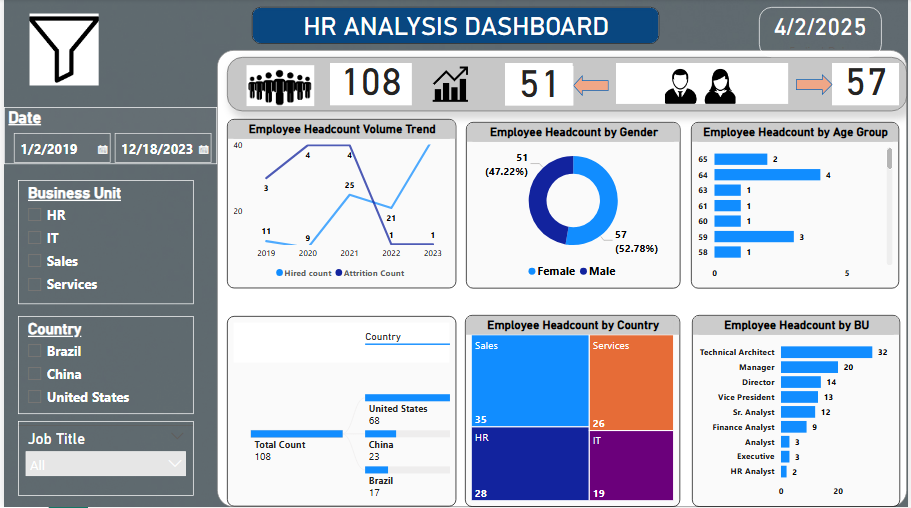

This screenshot's page, from the dashboard's own definition file:
{"tool":"powerbi","page":{"name":"Page 1","canvas":[1280,720],"ordinal":0},"visuals":[{"type":"textbox","box":[413.9,95,866,106.3],"z":0},{"type":"textbox","box":[301.9,72.3,978,647.7],"z":1000},{"type":"textbox","box":[316.1,82.2,963.8,76.5],"z":2000},{"type":"image","box":[338.7,63.8,106.3,117.6],"z":3000},{"type":"image","box":[555.6,90.7,154.5,59.5],"z":4000},{"type":"lineChart","title":"Employee Headcount  Volume Trend","fields":{"Category":["Employee Data.Hire Date.Variation.Date Hierarchy.Year"],"Y":["CountNonNull(Employee Data.EEID)"],"Y2":["CountNonNull(Employee Data.End Date)"]},"box":[316.4,169.9,324.7,239.7],"z":5000},{"type":"donutChart","title":" Employee Headcount by Gender","fields":{"Category":["Employee Data.Gender"],"Y":["CountNonNull(Employee Data.EEID)"]},"box":[654.8,174,304.1,235.6],"z":6000},{"type":"clusteredBarChart","title":" Employee Headcount by Age Group","fields":{"Category":["Employee Data.Age"],"Y":["CountNonNull(Employee Data.EEID)"]},"box":[974,174,294.5,235.6],"z":7000},{"type":"decompositionTreeVisual","title":"Employee Headcount  Volume Trend","fields":{"Analyze":["CountNonNull(Employee Data.Country)"],"ExplainBy":["Employee Data.Country"]},"box":[316.1,449.1,324.6,270.3],"z":8000},{"type":"treemap","title":" Employee Headcount by  Country","fields":{"Group":["Employee Data.Business Unit"],"Values":["CountNonNull(Employee Data.EEID)"]},"box":[653.4,447.9,304.7,272.1],"z":9000},{"type":"barChart","title":" Employee Headcount by BU","fields":{"Category":["Employee Data.Job Title"],"Y":["CountNonNull(Employee Data.EEID)"]},"box":[975.1,447.9,294.8,272.1],"z":10000},{"type":"card","fields":{"Values":["CountNonNull(Employee Data.EEID)"]},"box":[462,90.7,116.2,59.5],"z":11000},{"type":"image","box":[914.2,92.1,113.4,59.5],"z":12000},{"type":"card","fields":{"Values":["Employee Data.Total_Male_Count"]},"box":[710.1,90.7,96.4,59.5],"z":13000},{"type":"card","fields":{"Values":["Employee Data.Total_Female_Count"]},"box":[1173.5,90.7,95,59.5],"z":14000},{"type":"shape","box":[806.8,108.2,50.7,30.1],"z":15000},{"type":"shape","box":[1121.9,106.8,52.1,30.1],"z":16000},{"type":"textbox","box":[867.4,90.7,243.8,58.1],"z":17000},{"type":"image","box":[902.8,93.5,167.2,59.5],"z":18000},{"type":"textbox","title":"HR ANALYSIS DASHBOARD","box":[351.5,11.3,576.9,52.4],"z":19000},{"type":"slicer","fields":{"Values":["Employee Data.Business Unit"]},"box":[20,256,248.8,175.9],"z":20000},{"type":"card","fields":{"Values":["Employee Data.Total_Male_Count"]},"box":[709.6,94.5,97.3,56.2],"z":21000},{"type":"slicer","fields":{"Values":["Employee Data.Country"]},"box":[20,449.1,248.8,138.7],"z":22000},{"type":"slicer","fields":{"Values":["Employee Data.Job Title"]},"box":[20,597.8,248.8,105.8],"z":23000},{"type":"slicer","title":"Date","fields":{"Values":["Employee Data.Hire Date"]},"box":[0,153.1,301.9,80.8],"z":24000},{"type":"card","fields":{"Values":["Min(Query1.Date)"]},"box":[1070.1,11.3,174.3,70.9],"z":25000},{"type":"image","box":[31.2,15.6,107.7,112],"z":26000}]}

Visuals, with their boxes in screenshot pixels (x1, y1, x2, y2), scaled from the page's 1280x720 canvas onto the 911x508 screenshot:
textbox: bbox(295, 67, 910, 142)
textbox: bbox(215, 51, 910, 507)
textbox: bbox(225, 58, 910, 112)
image: bbox(241, 45, 317, 128)
image: bbox(395, 64, 505, 106)
"Employee Headcount  Volume Trend" lineChart: bbox(225, 120, 456, 289)
" Employee Headcount by Gender" donutChart: bbox(466, 123, 682, 289)
" Employee Headcount by Age Group" clusteredBarChart: bbox(693, 123, 903, 289)
"Employee Headcount  Volume Trend" decompositionTreeVisual: bbox(225, 317, 456, 507)
" Employee Headcount by  Country" treemap: bbox(465, 316, 682, 507)
" Employee Headcount by BU" barChart: bbox(694, 316, 904, 507)
card - CountNonNull(Employee Data.EEID): bbox(329, 64, 412, 106)
image: bbox(651, 65, 731, 107)
card - Employee Data.Total_Male_Count: bbox(505, 64, 574, 106)
card - Employee Data.Total_Female_Count: bbox(835, 64, 903, 106)
shape: bbox(574, 76, 610, 98)
shape: bbox(798, 75, 836, 97)
textbox: bbox(617, 64, 791, 105)
image: bbox(643, 66, 762, 108)
"HR ANALYSIS DASHBOARD" textbox: bbox(250, 8, 661, 45)
slicer - Employee Data.Business Unit: bbox(14, 181, 191, 305)
card - Employee Data.Total_Male_Count: bbox(505, 67, 574, 106)
slicer - Employee Data.Country: bbox(14, 317, 191, 415)
slicer - Employee Data.Job Title: bbox(14, 422, 191, 496)
"Date" slicer: bbox(0, 108, 215, 165)
card - Min(Query1.Date): bbox(762, 8, 886, 58)
image: bbox(22, 11, 99, 90)
